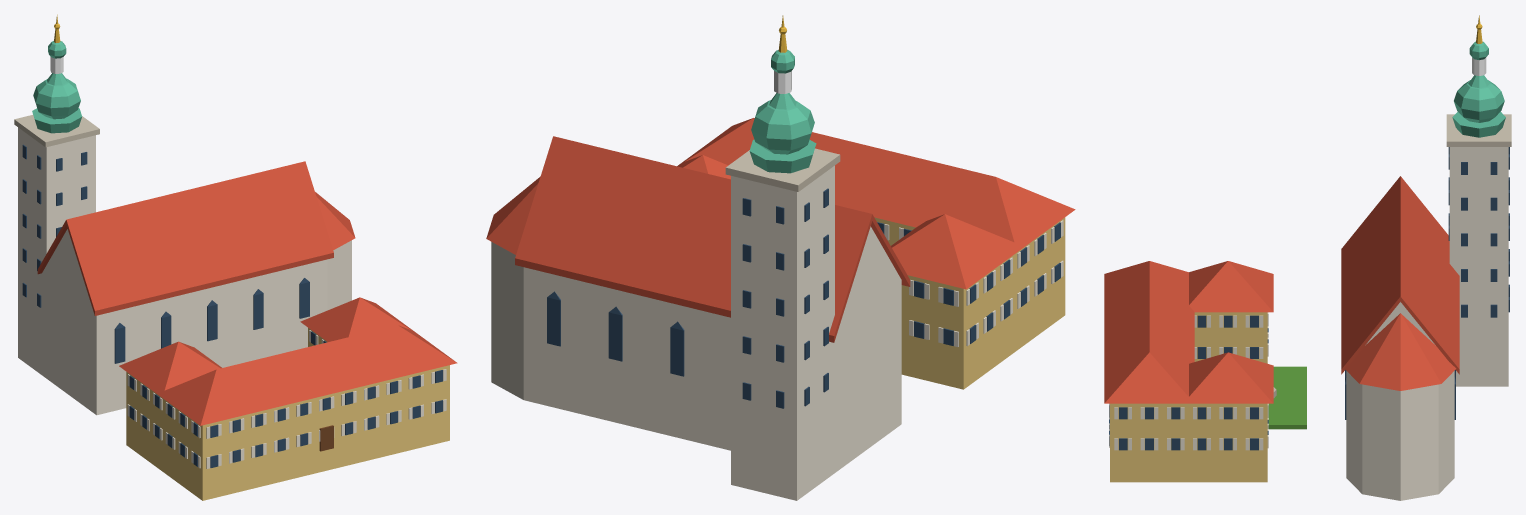
The model's file is minorite.glb.
3 renders of one model, left to right at view 1: azimuth 30°, elevation 25°; view 2: azimuth 150°, elevation 25°; view 3: azimuth 270°, elevation 25°, orthographic. The views are drawn at different scales.
Visible parts, largest first — view 1: Minorite; view 2: Minorite; view 3: Minorite.
Part boxes in pixels (x1,y1,x2,y2): Minorite: [14, 14, 457, 500]; Minorite: [486, 15, 1075, 500]; Minorite: [1104, 15, 1511, 500].
Bounding box in the file's own units: 35.5 × 40.37 × 41.4.
